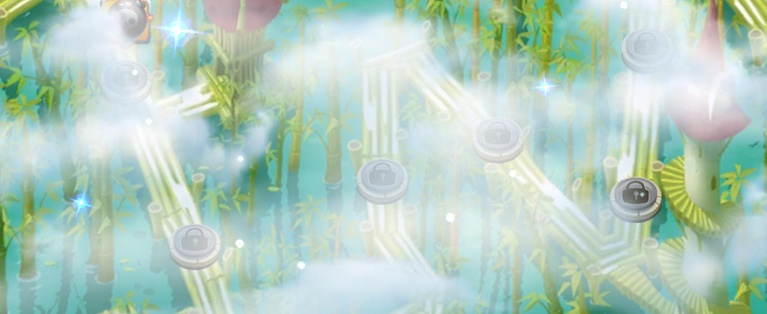ImgView: (1, 1, 766, 313)
